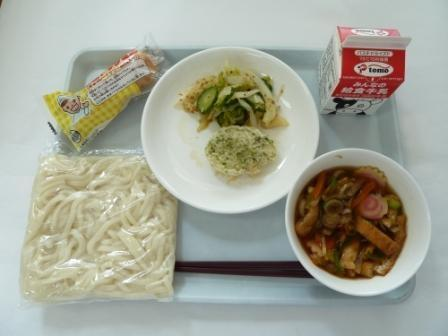Milk: (312, 16, 408, 123)
Salad: (190, 61, 302, 125)
Soups: (282, 148, 427, 286)
Udon: (11, 142, 192, 311)
cutlet: (198, 118, 290, 183)
